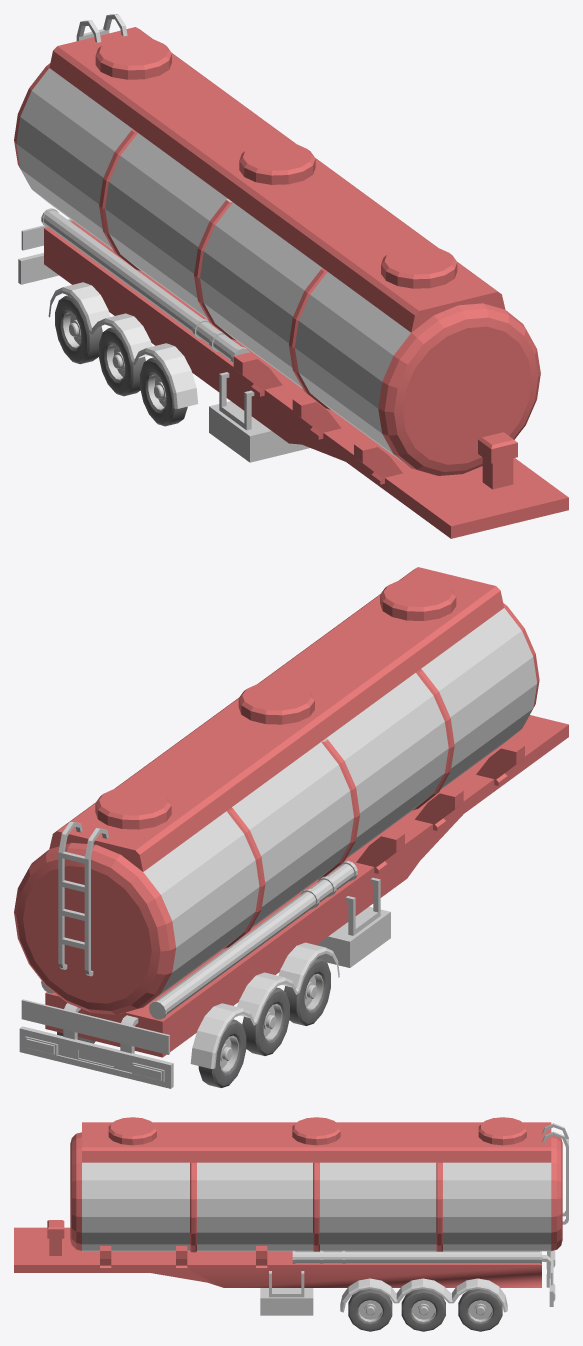
Rendered from trailerRed.glb.
3 renders of one model, top to bottom at view 1: azimuth 30°, elevation 25°; view 2: azimuth 150°, elevation 25°; view 3: azimuth 270°, elevation 25°, orthographic. The views are drawn at different scales.
Parts seen in each view (by area): view 1: Bl, TrailerBox, wheels2_2, Trailer4, wing; view 2: Bl, TrailerBox, Trailer4, wheels2_2, wing; view 3: Bl, TrailerBox, wheels1_2, Trailer4, wing.
Boxes of the visible parts, bbox=[...] form: Bl: bbox=[14, 14, 540, 484]; TrailerBox: bbox=[44, 221, 568, 538]; wheels2_2: bbox=[55, 295, 187, 426]; Trailer4: bbox=[18, 219, 309, 462]; wing: bbox=[48, 282, 198, 408]; Bl: bbox=[14, 567, 539, 1019]; TrailerBox: bbox=[45, 715, 568, 1057]; Trailer4: bbox=[19, 877, 390, 1088]; wheels2_2: bbox=[198, 957, 330, 1087]; wing: bbox=[190, 942, 339, 1068]; Bl: bbox=[70, 1117, 568, 1270]; TrailerBox: bbox=[14, 1220, 541, 1287]; wheels1_2: bbox=[348, 1289, 502, 1331]; Trailer4: bbox=[260, 1250, 555, 1315]; wing: bbox=[340, 1278, 507, 1312].
Bounding box in the file's own units: 1.92 × 3.12 × 8.62.
